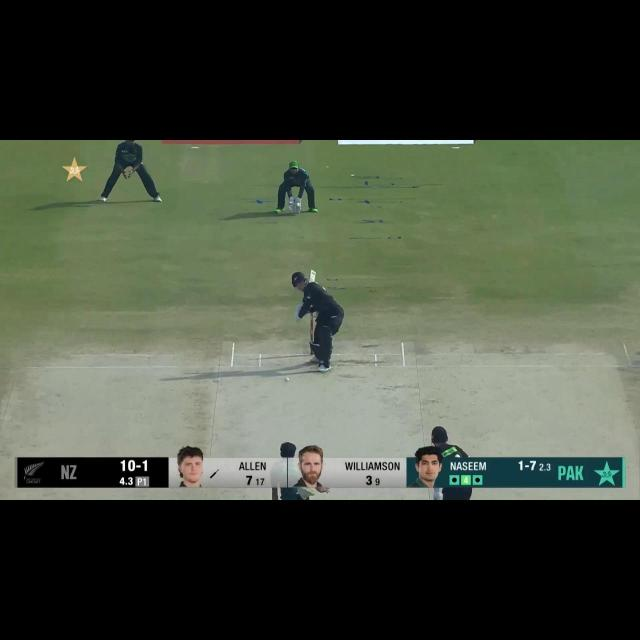bat: (309, 269, 318, 284)
toe: (306, 268, 318, 277)
